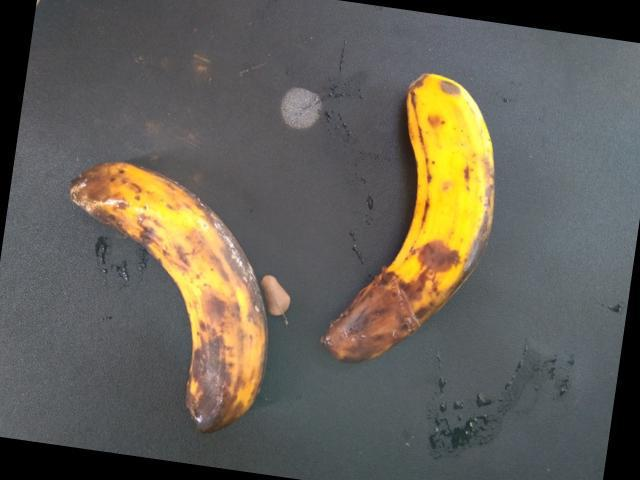rotten: (325, 63, 526, 400), (81, 135, 253, 456)
